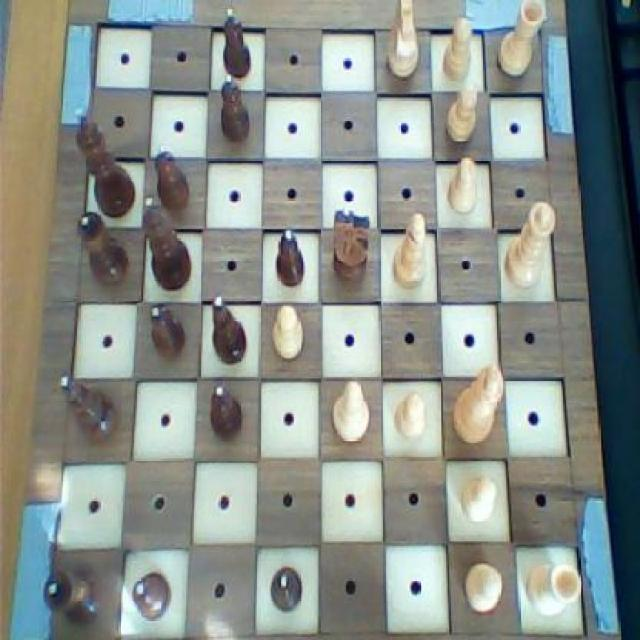bishop: (54, 372, 122, 447), (204, 288, 254, 370)
black-bishop: (70, 103, 138, 220)
black-king: (323, 198, 375, 296)
black-knight: (148, 137, 195, 217), (143, 297, 188, 365), (124, 564, 174, 624), (214, 1, 252, 78), (204, 375, 246, 444), (268, 225, 310, 290), (216, 68, 252, 143), (264, 560, 306, 615)
black-pawn: (136, 189, 194, 294)
black-queen: (72, 202, 132, 290), (38, 558, 107, 631)
black-rook: (324, 372, 374, 447), (388, 209, 432, 294)
white-bishop: (446, 358, 506, 450)
white-king: (378, 0, 424, 83)
white-knight: (458, 558, 509, 618), (440, 82, 485, 149), (388, 384, 434, 446), (457, 468, 501, 528), (437, 15, 475, 84), (444, 154, 480, 218)
white-pawn: (500, 198, 560, 294)
white-queen: (492, 0, 546, 83), (523, 556, 583, 624)
